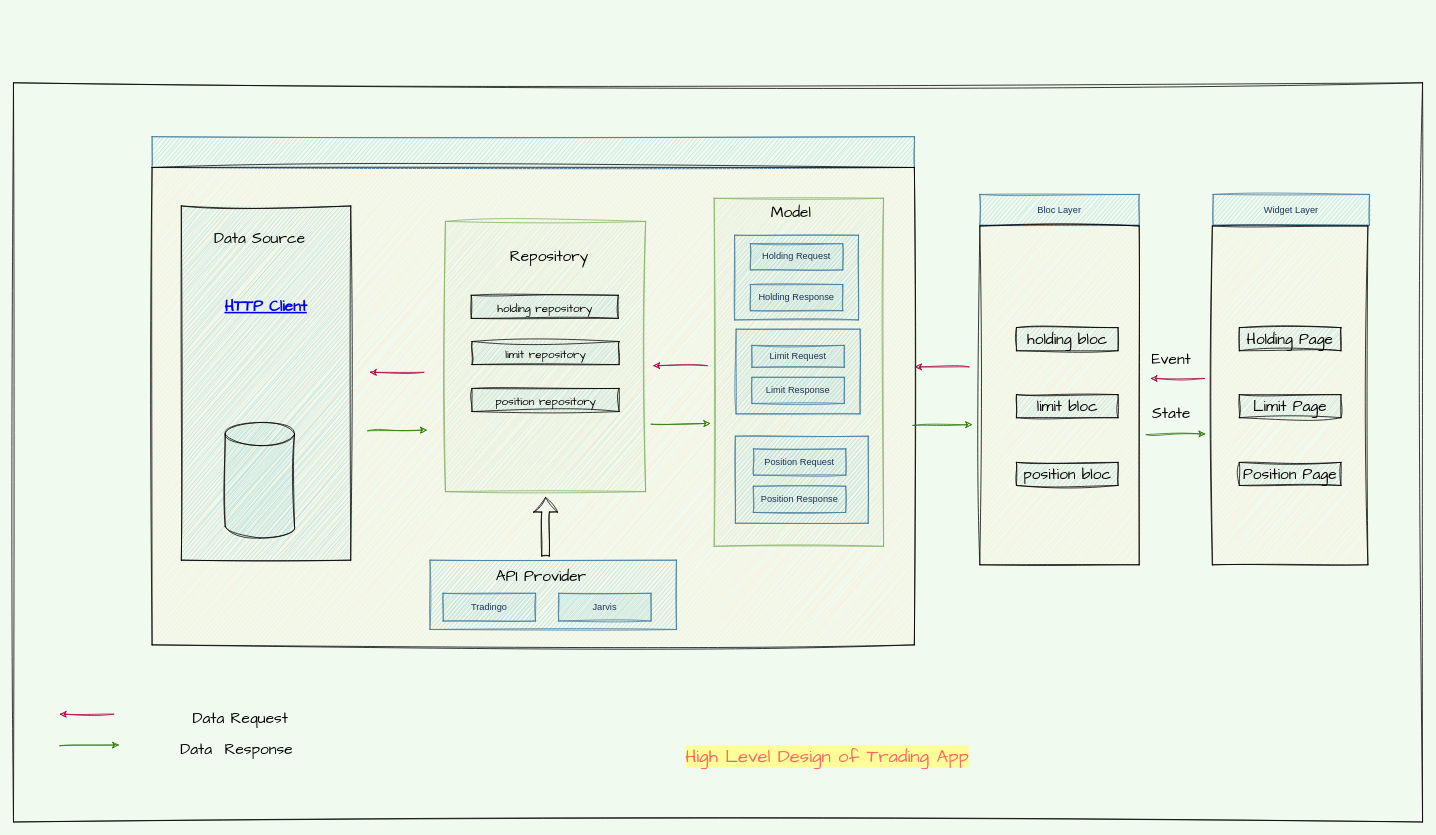
Image size: 1436x835. Some labels were removed from this diagram. The shapes that lost their labels are listed below. From the top down, each one's centre as x and y in pixels, then its label:
At (532,151): "Data Layer".
At (259,480): "SQLite Database".
